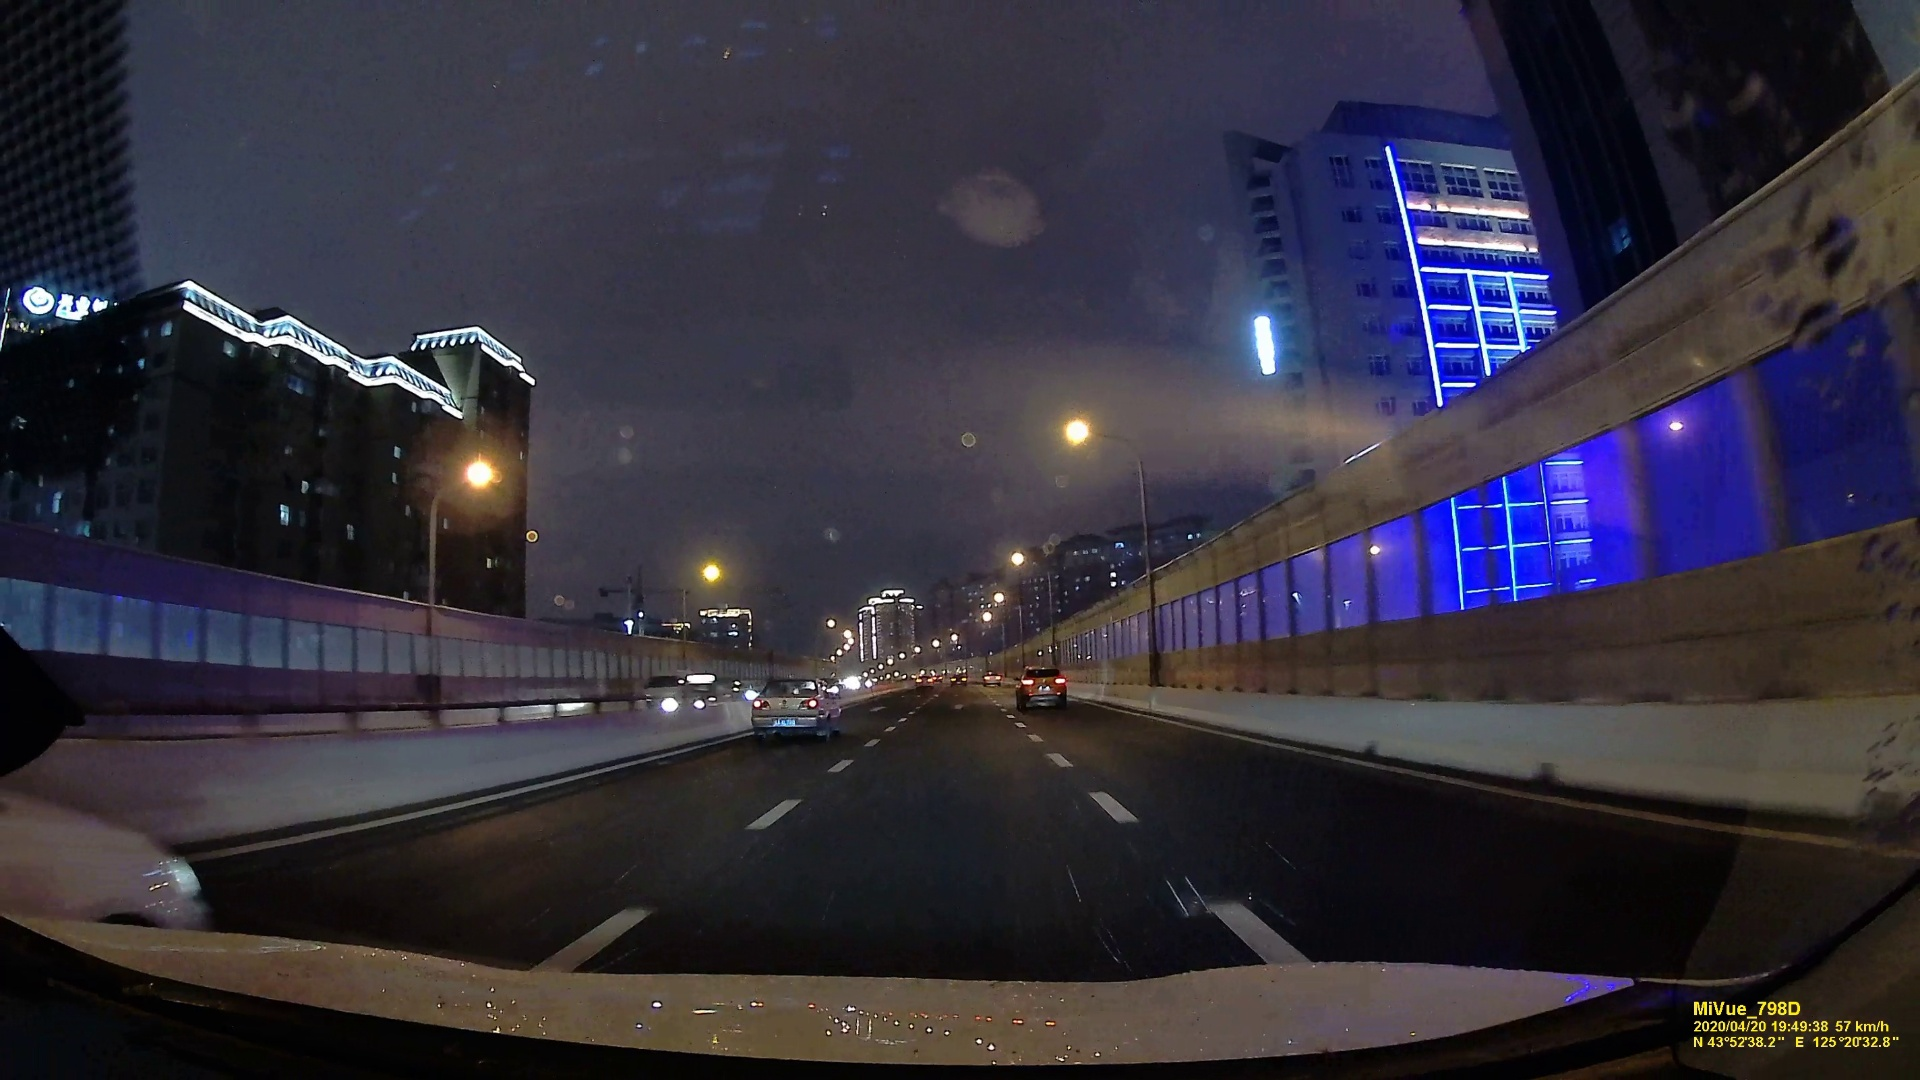vehicle: (746, 675, 843, 742), (1015, 665, 1069, 709), (659, 682, 731, 709), (913, 674, 932, 687)
